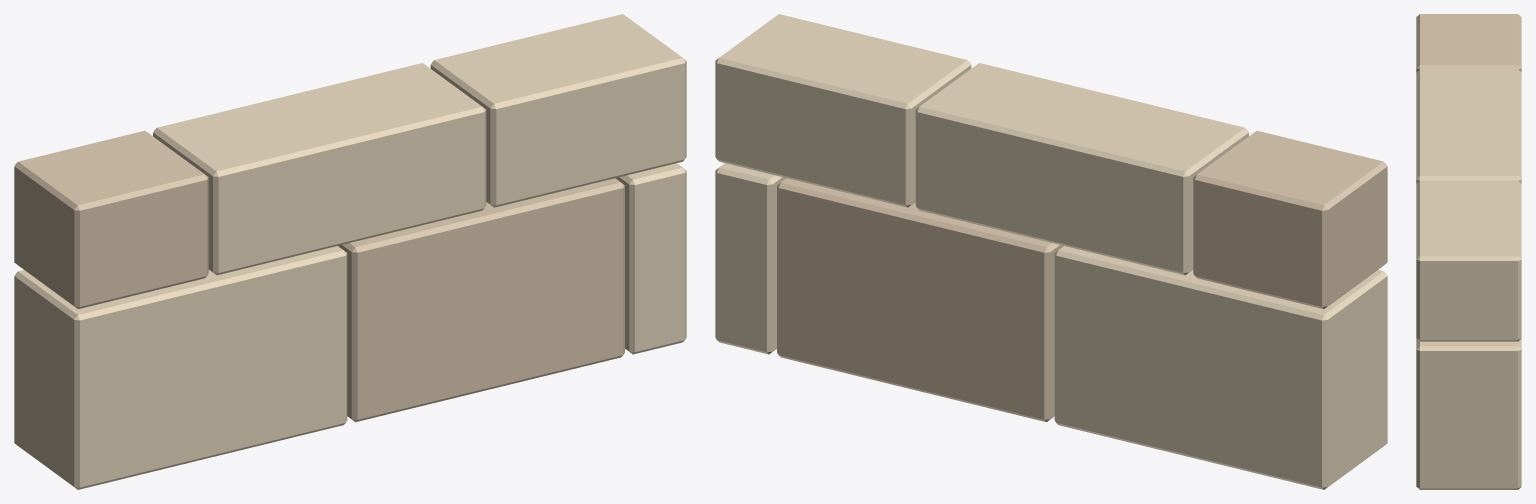
The model's file is wall_low.glb.
3 renders of one model, left to right at view 1: azimuth 30°, elevation 25°; view 2: azimuth 150°, elevation 25°; view 3: azimuth 270°, elevation 25°, orthographic. The views are drawn at different scales.
Visible parts, largest first — view 1: wall_low__body__plaster, wall_low__body__plaster3; view 2: wall_low__body__plaster, wall_low__body__plaster3; view 3: wall_low__body__plaster, wall_low__body__plaster3.
Boxes of the visible parts, x1,y1,x2,y2 form: wall_low__body__plaster: (14, 14, 686, 489); wall_low__body__plaster3: (14, 130, 624, 422); wall_low__body__plaster: (715, 14, 1387, 489); wall_low__body__plaster3: (777, 130, 1387, 422); wall_low__body__plaster: (1416, 69, 1521, 489); wall_low__body__plaster3: (1416, 14, 1521, 72).
Bounding box in the file's own units: 0.993 × 0.441 × 0.18.
